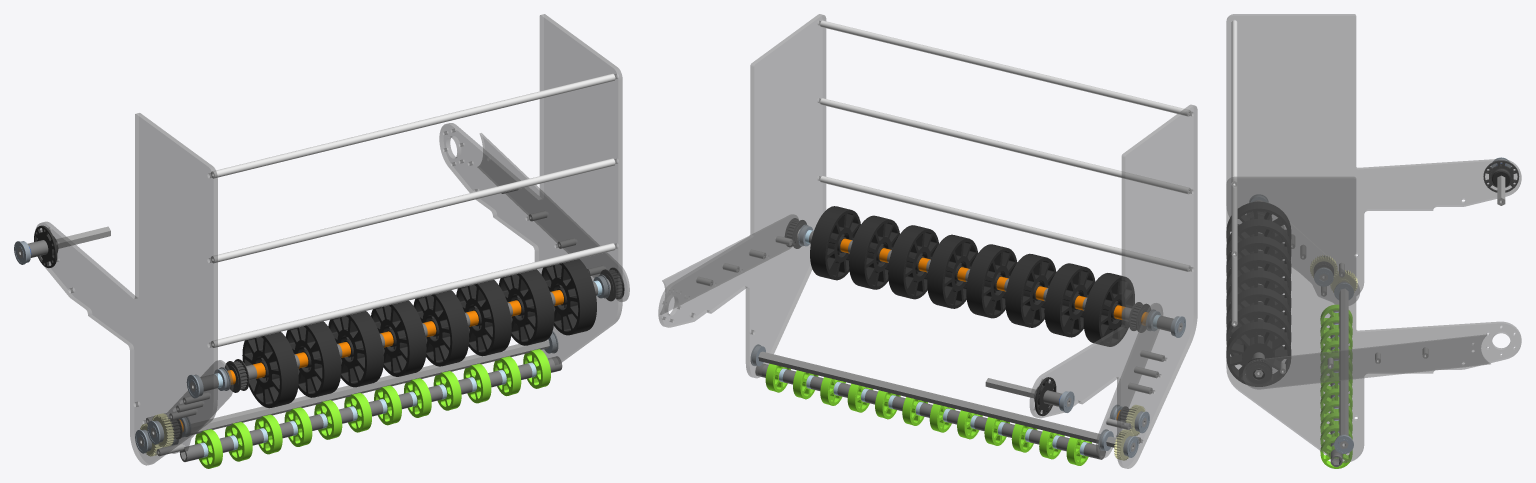
3 renders of one model, left to right at view 1: azimuth 30°, elevation 25°; view 2: azimuth 150°, elevation 25°; view 3: azimuth 270°, elevation 25°, orthographic. The views are drawn at different scales.
Visible parts, largest first — view 1: 5401-26-400-000 Infeed Assembly <1>, 4IN Compliant Wheel FINAL Overmold (×8), am-3462 2IN Molded 500Hex Compliant Wheel REV2 (×12); view 2: 5401-26-400-000 Infeed Assembly <1>, 4IN Compliant Wheel FINAL Overmold (×8); view 3: 5401-26-400-000 Infeed Assembly <1>, 4IN Compliant Wheel FINAL Overmold (×8), 217-2592-001 Rev7, WCP-0564 Rev1, am-3462 2IN Molded 500Hex Compliant Wheel REV2.
Boxes of the visible parts, x1,y1,x2,y2 form: 5401-26-400-000 Infeed Assembly <1>: (17,14,629,465); 4IN Compliant Wheel FINAL Overmold (×8): (242,259,596,408); am-3462 2IN Molded 500Hex Compliant Wheel REV2 (×12): (195,349,550,468); 5401-26-400-000 Infeed Assembly <1>: (658,14,1197,468); 4IN Compliant Wheel FINAL Overmold (×8): (810,206,1134,346); 5401-26-400-000 Infeed Assembly <1>: (1226,14,1521,462); 4IN Compliant Wheel FINAL Overmold (×8): (1226,201,1291,386); 217-2592-001 Rev7: (1483,160,1518,192); WCP-0564 Rev1: (1245,358,1272,385); am-3462 2IN Molded 500Hex Compliant Wheel REV2: (1320,436,1352,468).
Size of the model in its own units: 0.6747 by 0.5126 by 0.4622.
